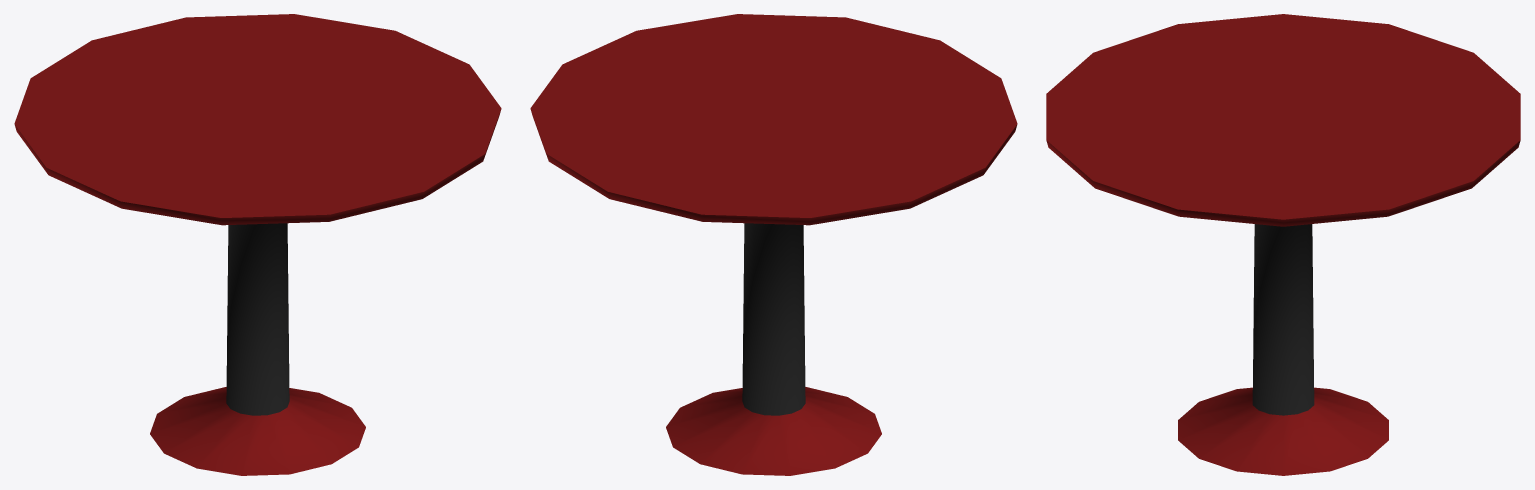
File: RE_RKitchenTable.FBX
3 views of the same model, side by side, from view 1: azimuth 30°, elevation 25°; view 2: azimuth 150°, elevation 25°; view 3: azimuth 270°, elevation 25° (orthographic).
Visible parts, largest first — view 1: RE_RKitchenTable; view 2: RE_RKitchenTable; view 3: RE_RKitchenTable.
Boxes of the visible parts, bbox=[...] form: RE_RKitchenTable: bbox=[14, 14, 501, 475]; RE_RKitchenTable: bbox=[530, 14, 1017, 475]; RE_RKitchenTable: bbox=[1046, 14, 1520, 475].
Bounding box in the file's own units: 72.54 × 51.54 × 70.72.
